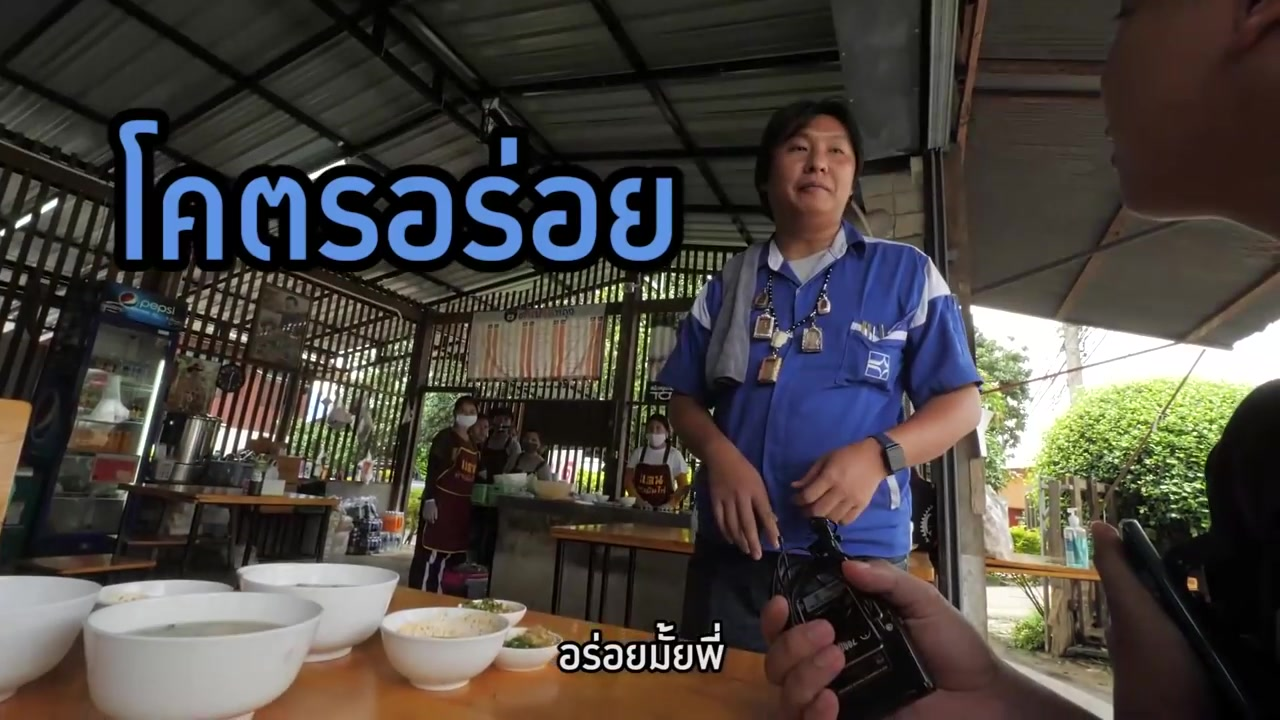text-label: (107, 103, 690, 278), (553, 614, 730, 672)
